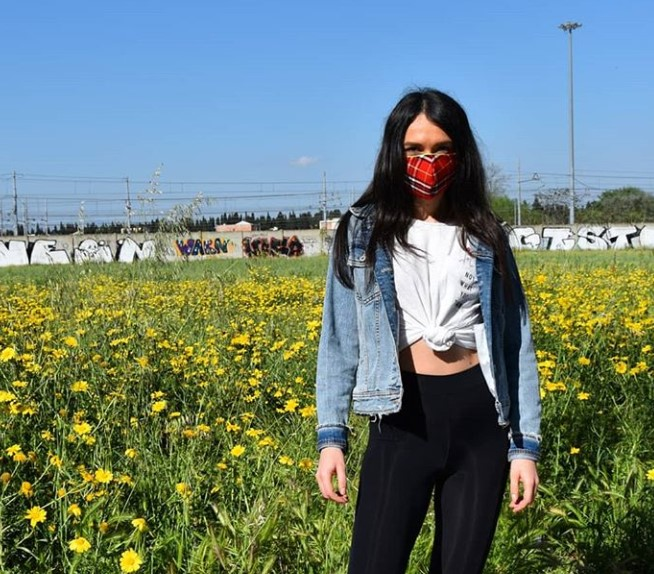face_with_mask: (389, 86, 479, 211)
